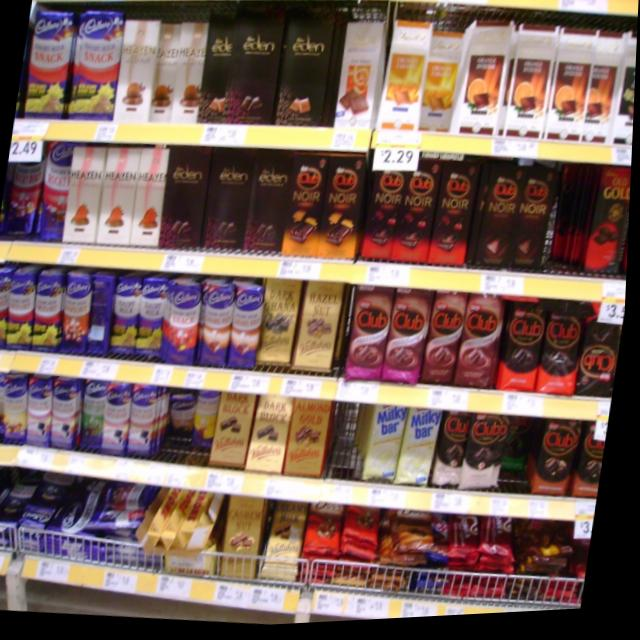q145: (68, 4, 127, 127), (17, 7, 79, 120), (1, 268, 46, 362), (32, 276, 69, 345), (0, 269, 18, 348)
q250: (60, 147, 110, 251), (96, 143, 144, 250), (130, 144, 178, 246)
q52: (610, 46, 637, 175)
